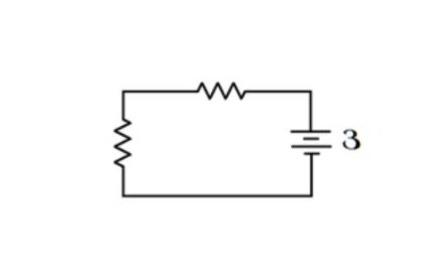resistor: (182, 66, 259, 113), (99, 107, 142, 176)
